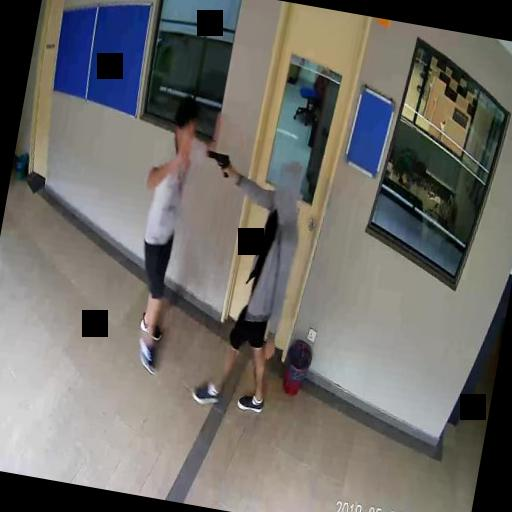Handgun: (202, 148, 232, 177)
